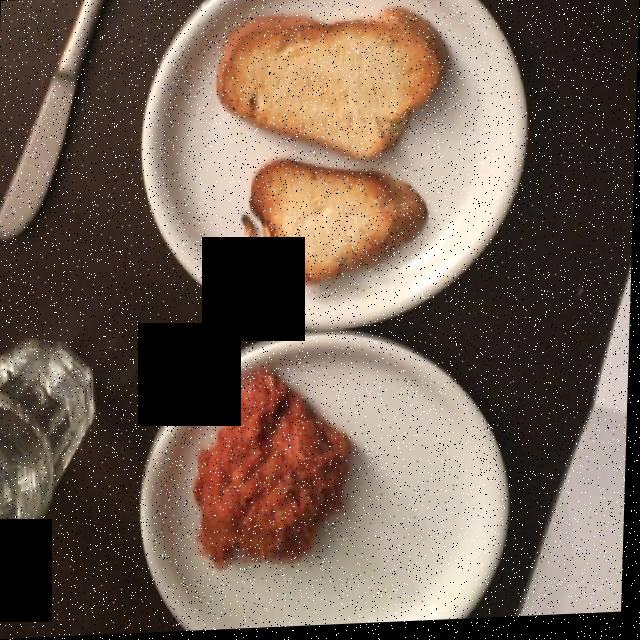braided-white-loaf: (210, 10, 445, 278)
tartar-meat: (197, 374, 351, 566)
